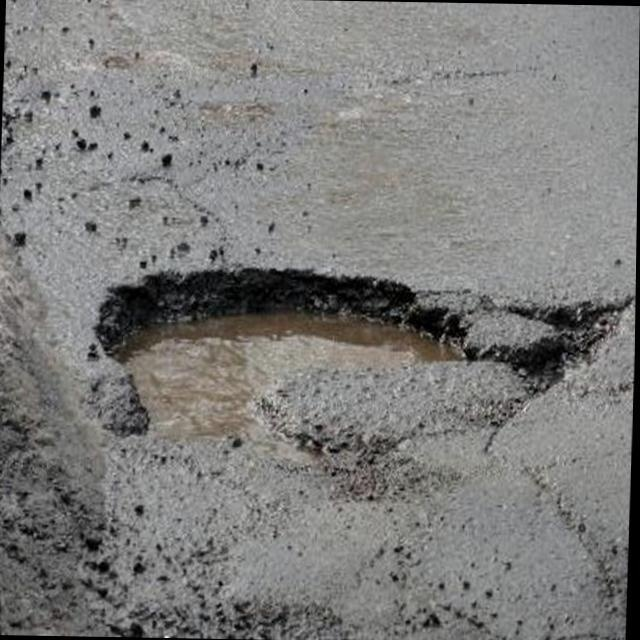pothole: (90, 246, 484, 472), (510, 280, 615, 396)
